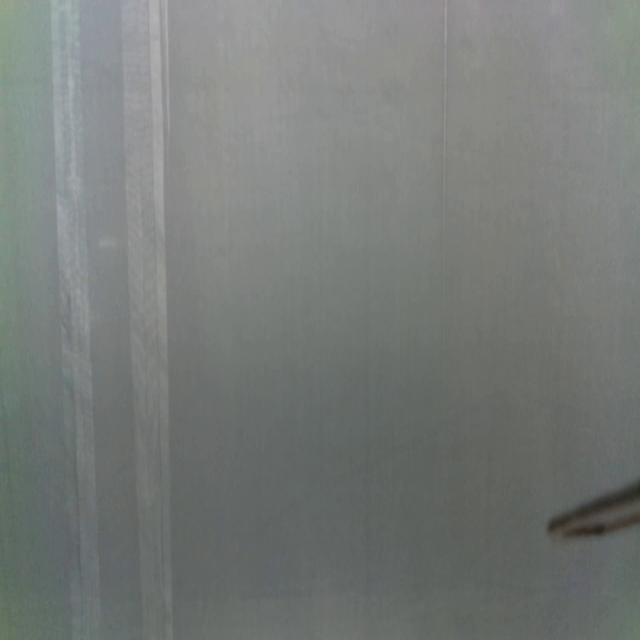crease: (120, 0, 173, 640), (51, 0, 101, 640), (441, 2, 449, 306)
